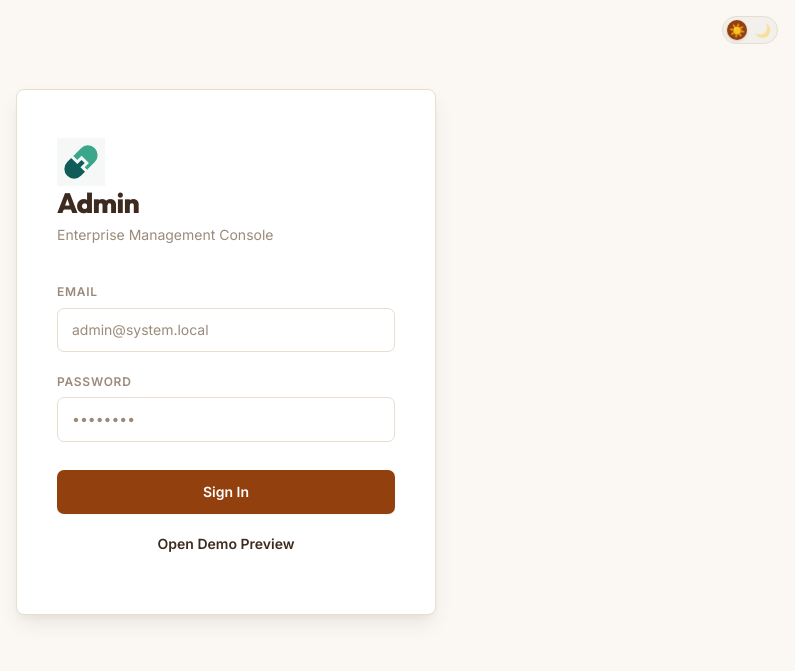
Test: actual pending login keeps its longer label disabled with the same minimum and does not submit twice
Type "synthetic@example.test" into the field with id "login-email" at point(226, 330), box [57, 308, 395, 352]
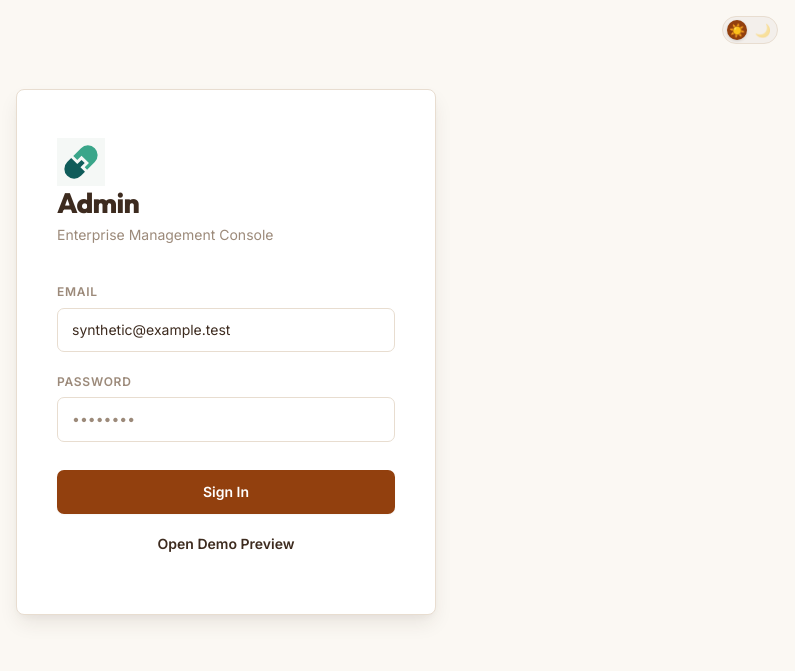
Type "synthetic-password" into the password field with id "login-password" at point(226, 419), box [57, 397, 395, 442]
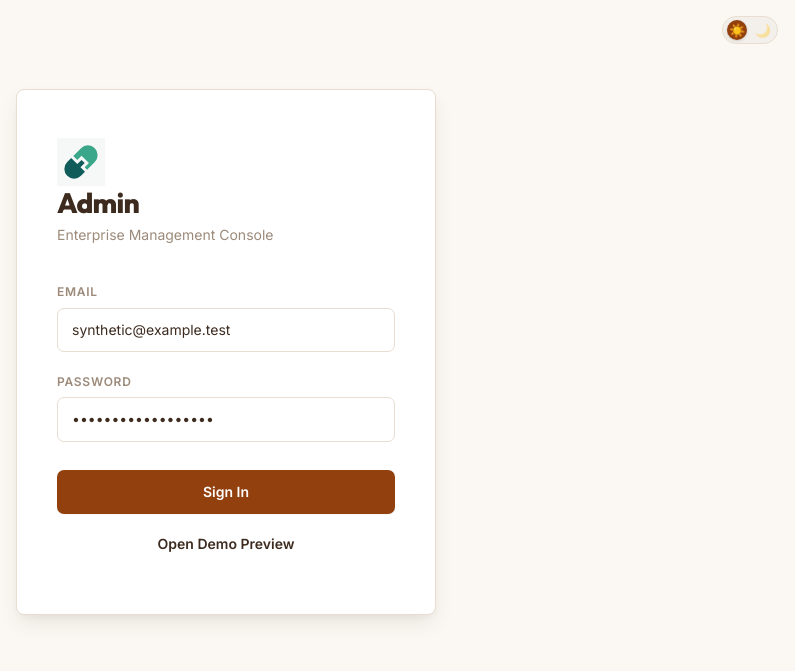
Click the button "Sign In" at point(226, 492), box [57, 470, 395, 514]
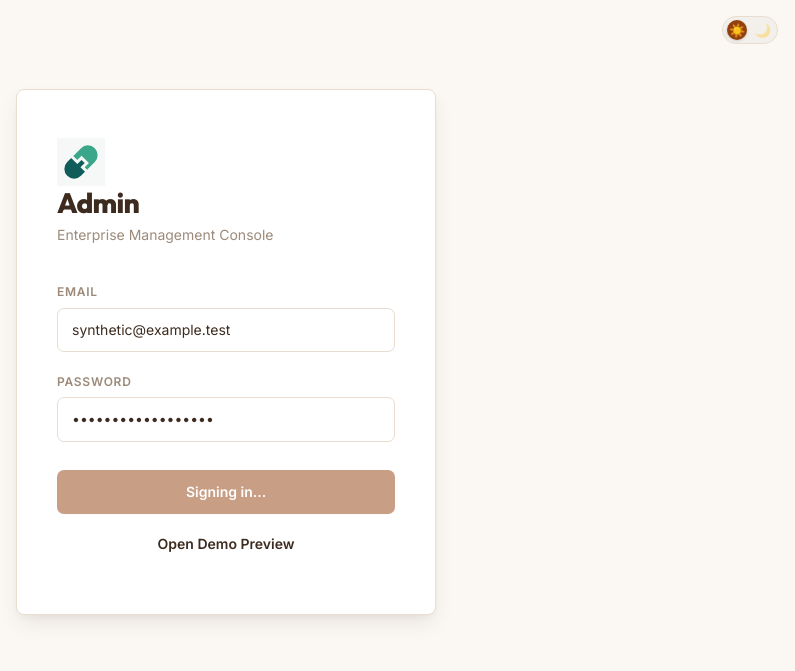
Result: the button "Signing in..." is disabled
Click the button "Signing in..." at point(226, 492), box [57, 470, 395, 514]
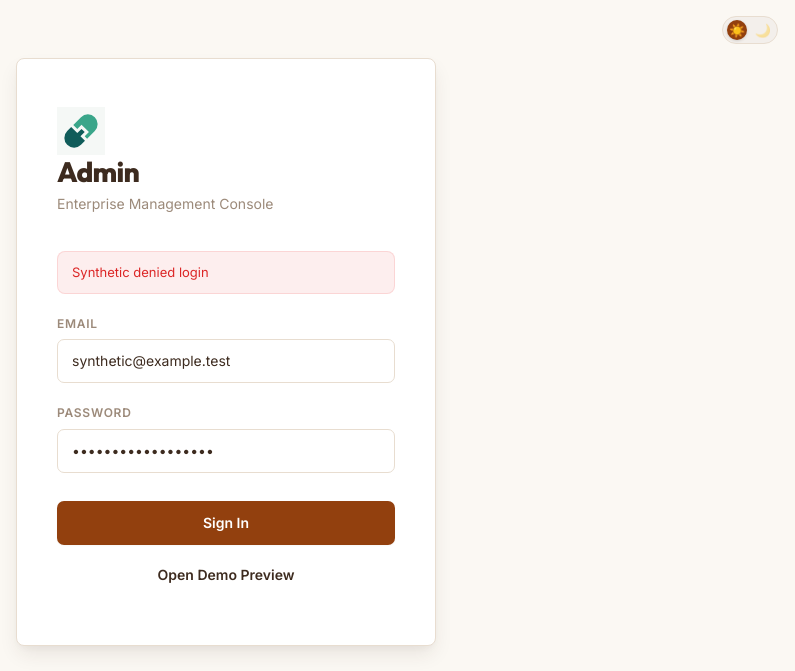
Result: the button "Sign In" is enabled at [57, 501, 395, 545]
